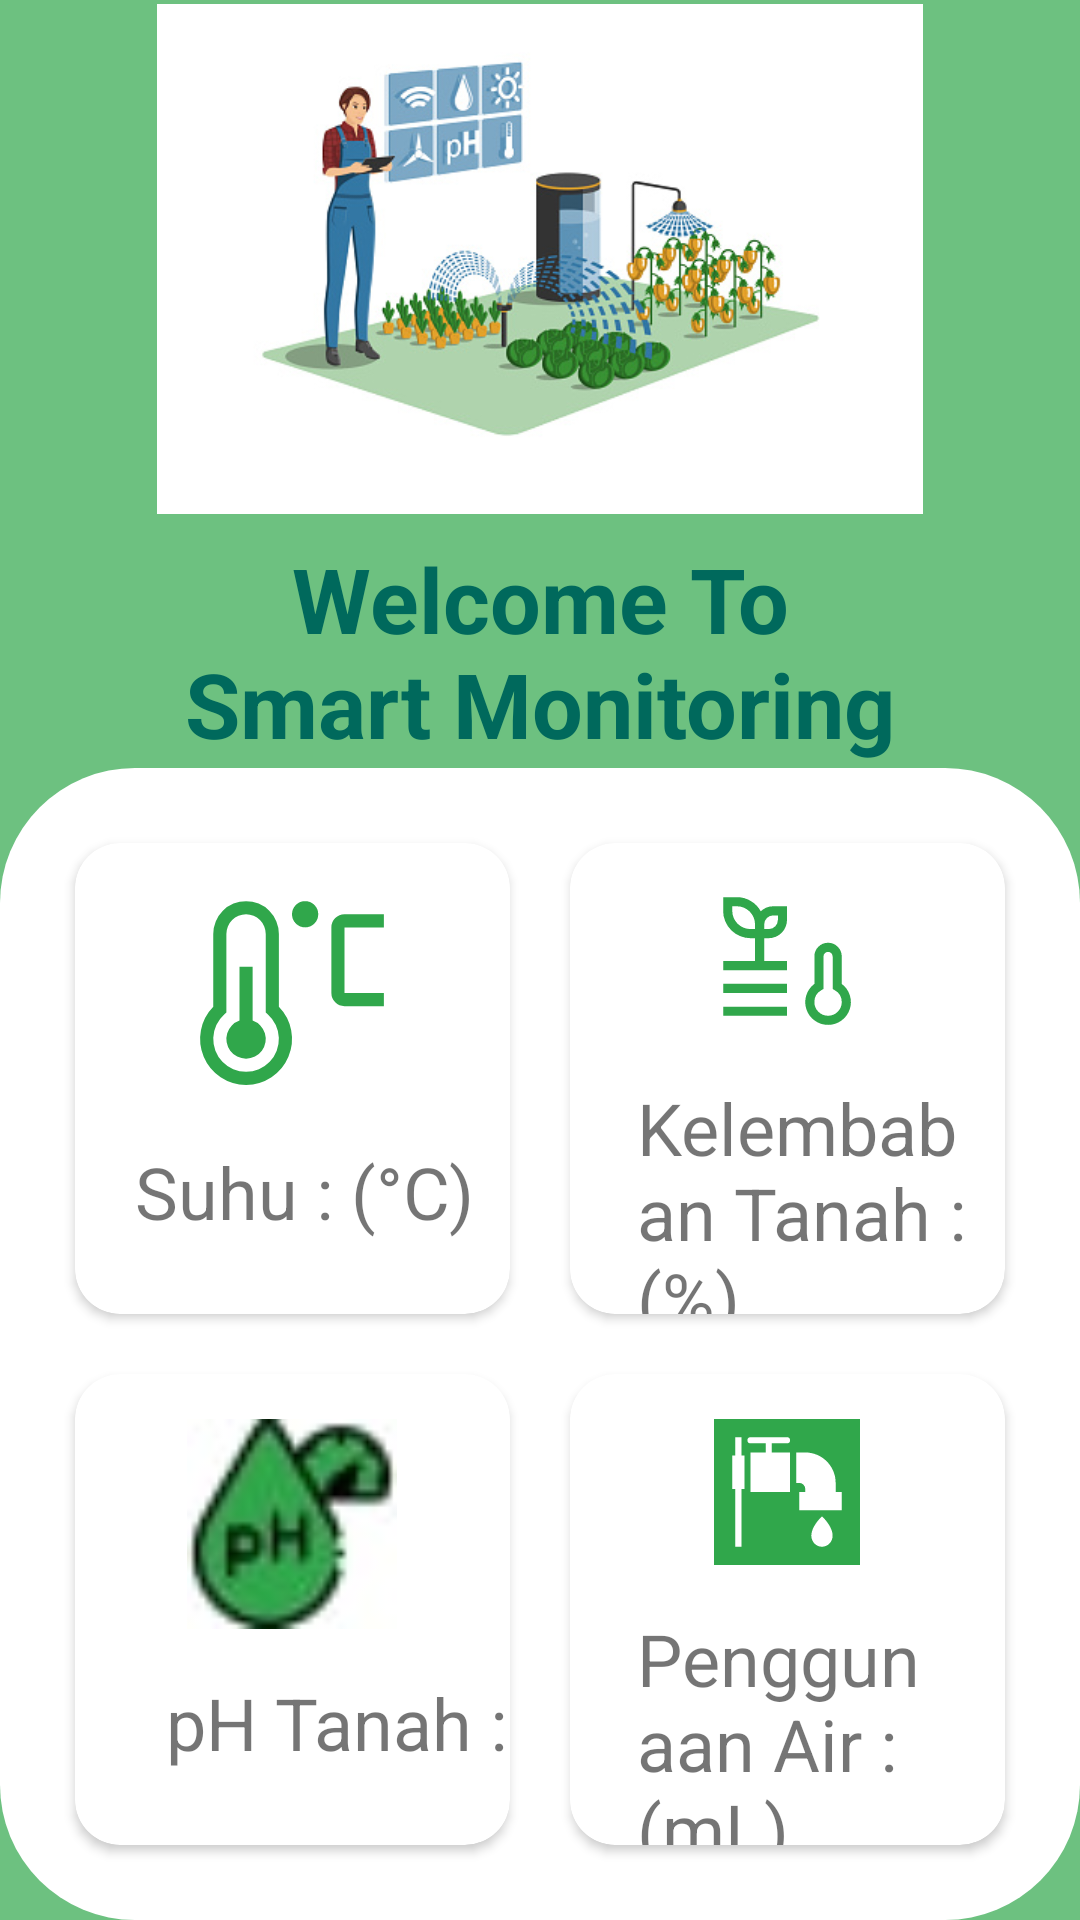

Icon click points for this 1080px×1920px phone screenshot, format (x,y):
water: (787,1492)
